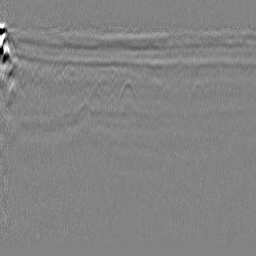cavity: (116, 76, 138, 106)
